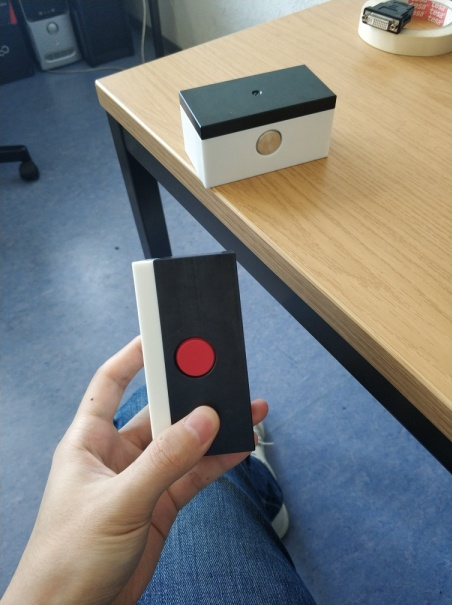black+white+silver: (176, 62, 337, 191)
white+black+red: (130, 250, 260, 456)
